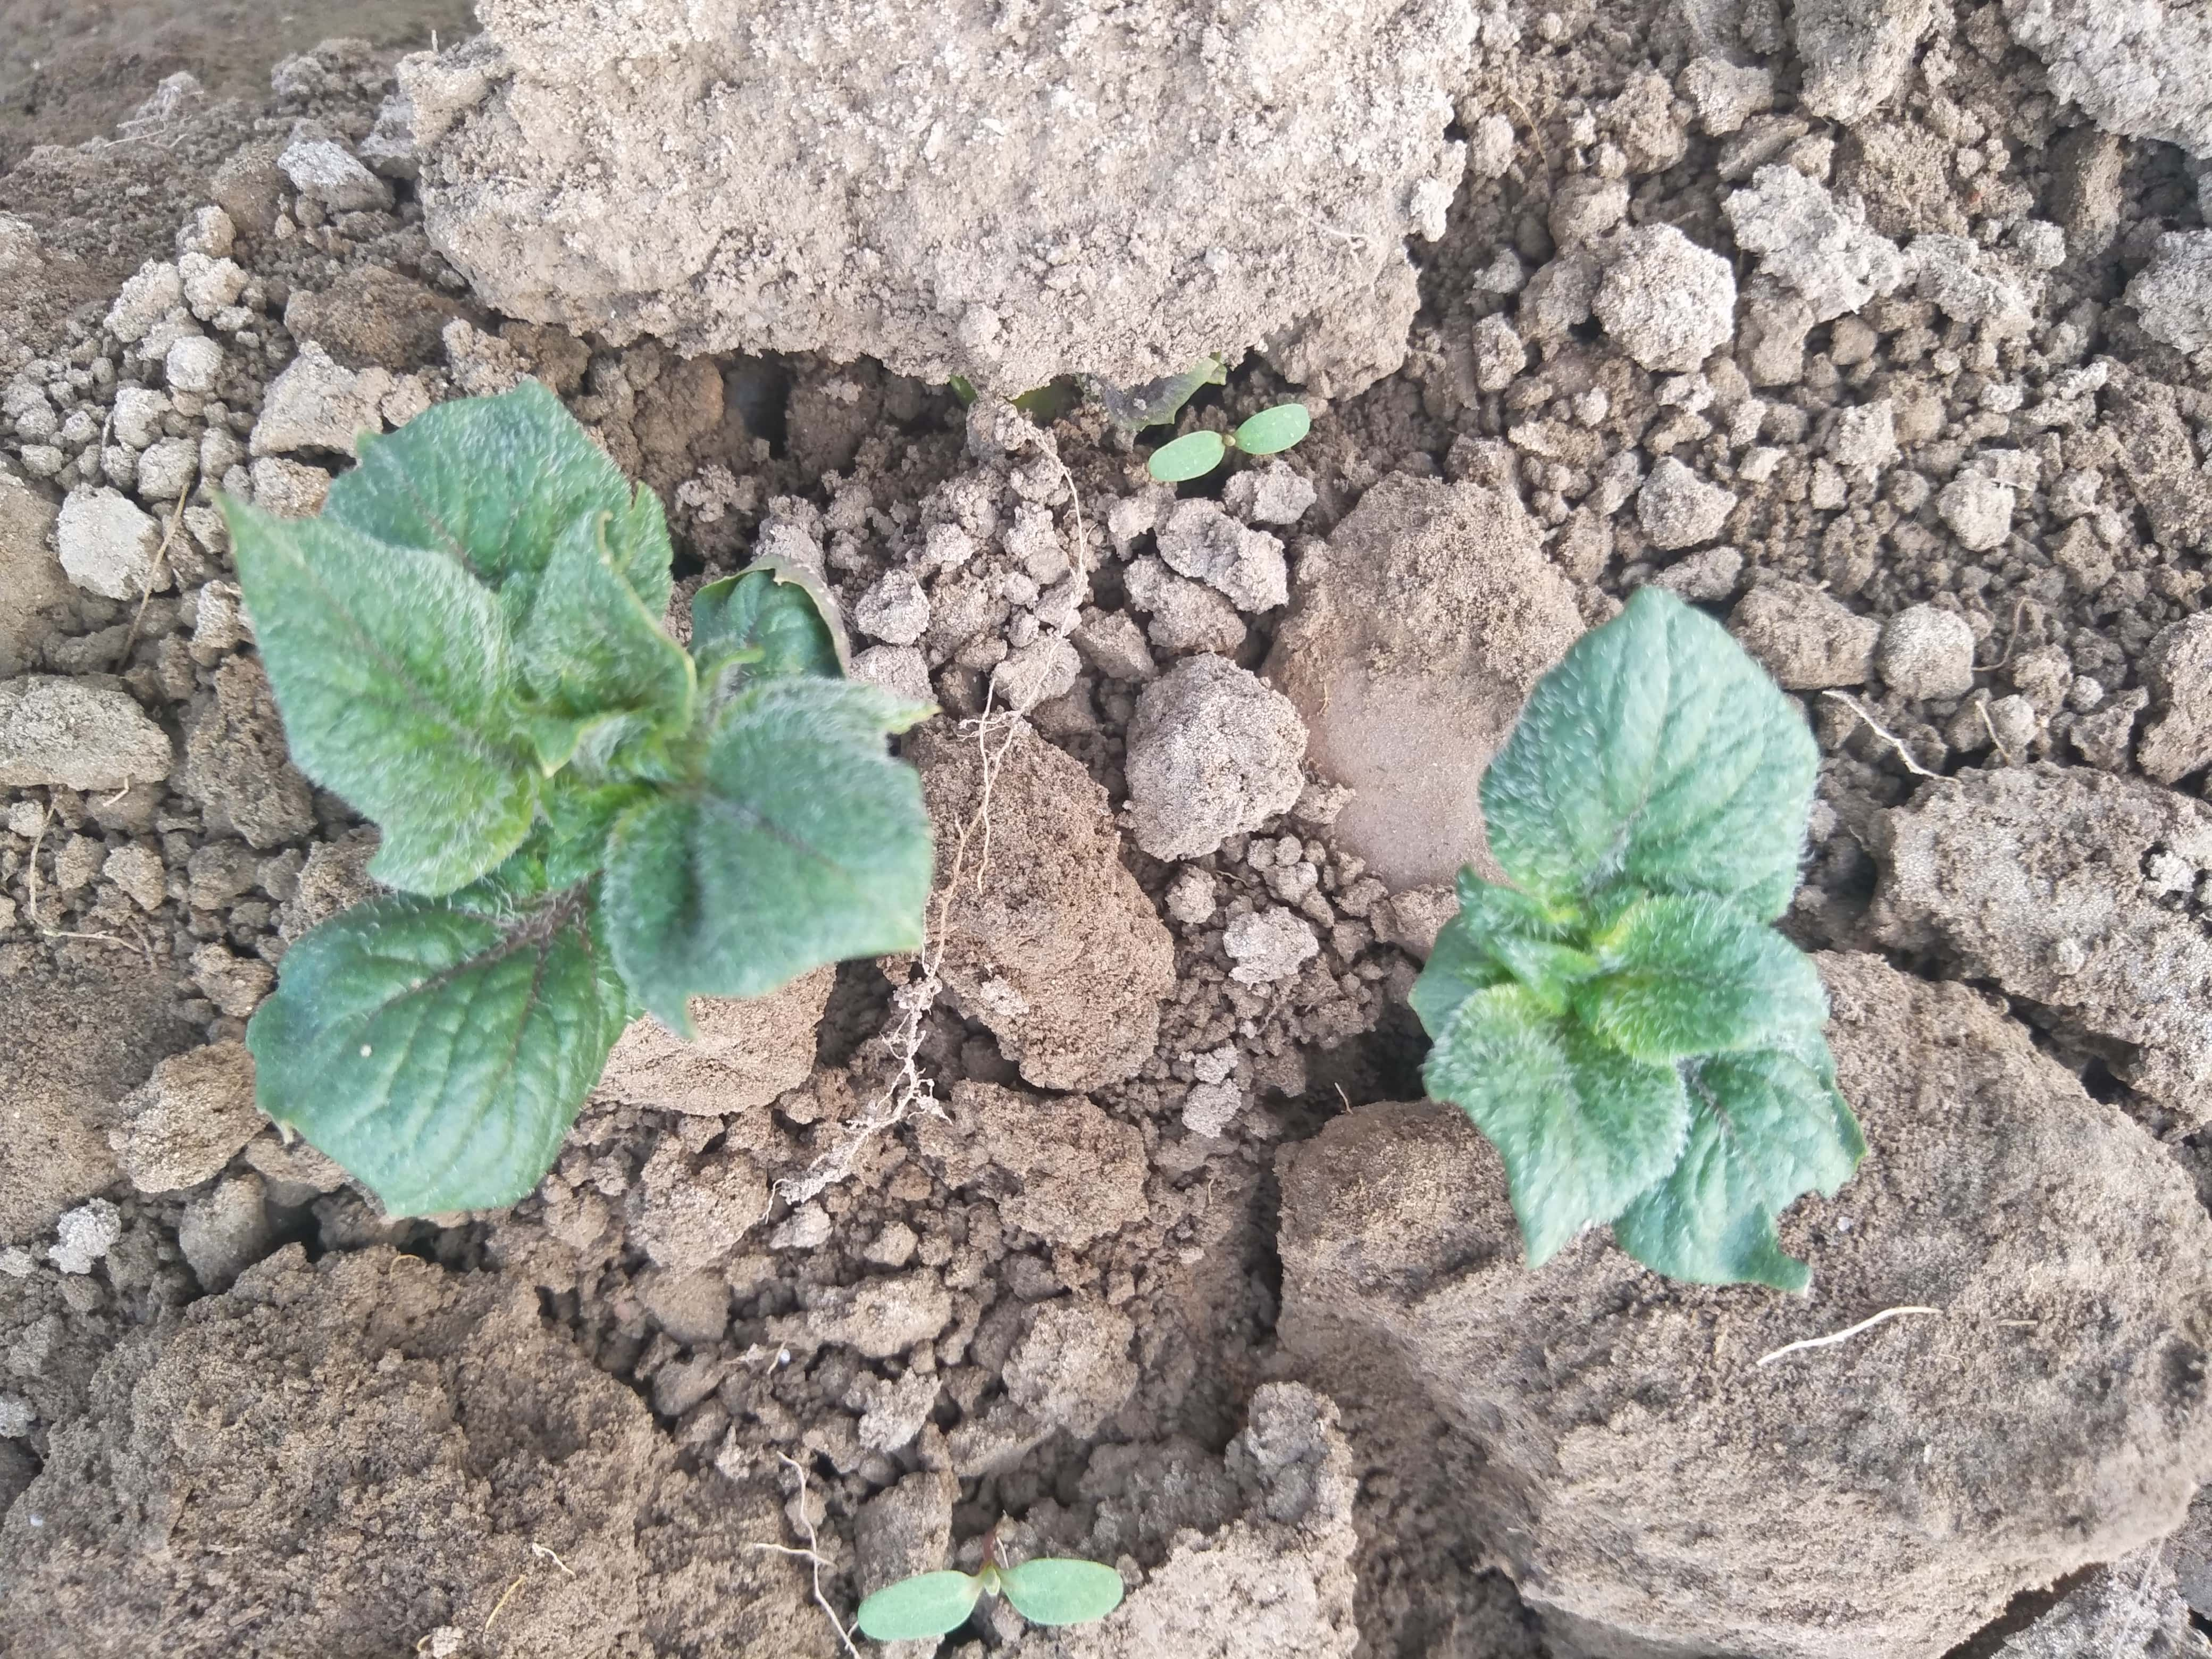daun: (218, 493, 557, 873), (1493, 594, 1799, 948), (256, 929, 608, 1194), (613, 704, 921, 999), (350, 403, 660, 615), (1430, 978, 1674, 1246), (1641, 1061, 1860, 1291), (510, 505, 705, 744), (1599, 925, 1813, 1028), (1426, 915, 1569, 1021), (697, 575, 815, 694)
